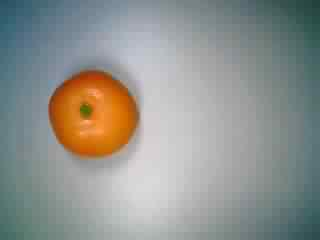orange: (45, 57, 140, 159)
